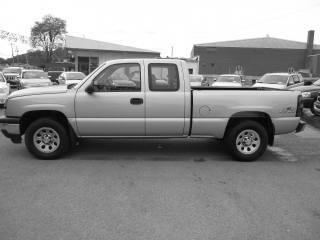car: (2, 58, 307, 165)
